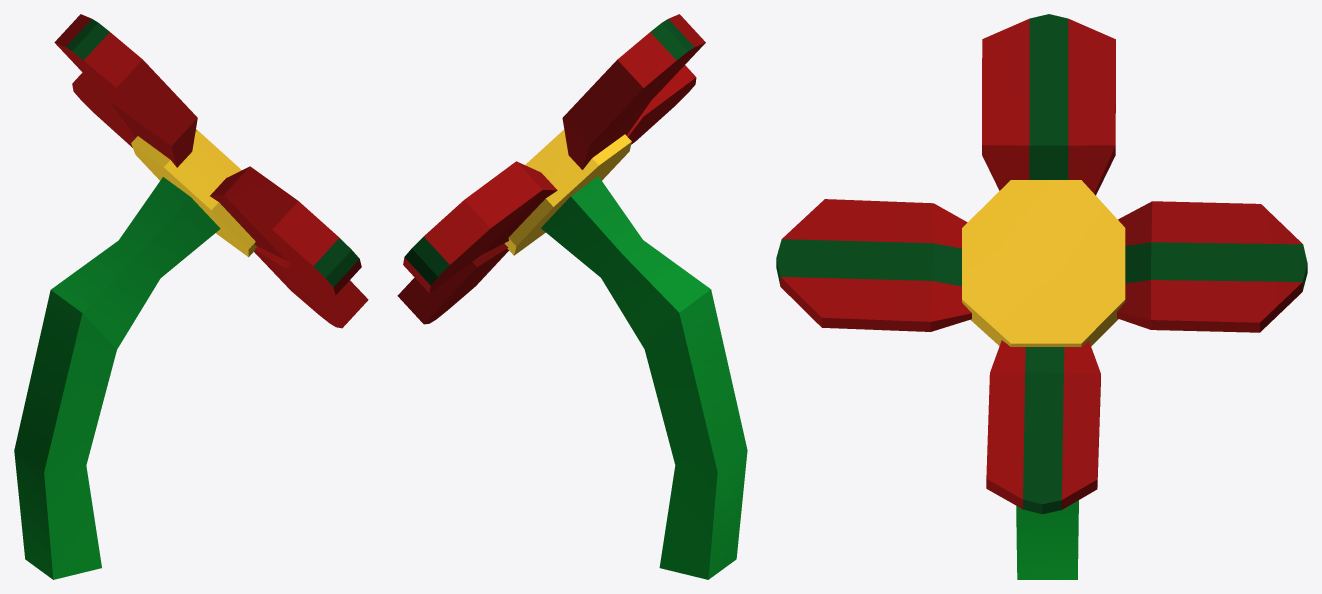
File: FLORESRECOGER6.fbx
3 views of the same model, side by side, from view 1: azimuth 30°, elevation 25°; view 2: azimuth 150°, elevation 25°; view 3: azimuth 270°, elevation 25° (orthographic). The views are drawn at different scales.
Parts seen in each view (by area): view 1: Cube.004; view 2: Cube.004; view 3: Cube.004.
Boxes of the visible parts, box(x1,y1,x2,y2) form: Cube.004: box(14, 14, 368, 579); Cube.004: box(397, 14, 747, 579); Cube.004: box(776, 14, 1307, 579).
Size of the model in its own units: 1330 by 2083 by 1754.
